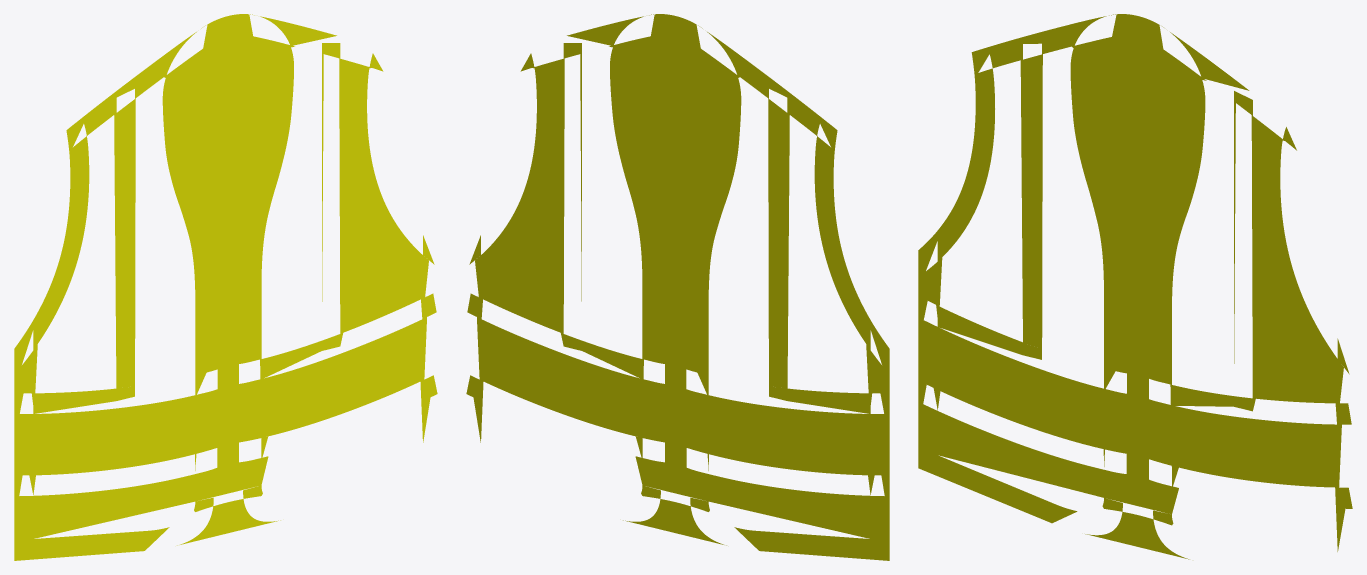
Rendered from vest.glb.
3 renders of one model, left to right at view 1: azimuth 30°, elevation 25°; view 2: azimuth 150°, elevation 25°; view 3: azimuth 330°, elevation 25°, orthographic. The views are drawn at different scales.
Visible parts, largest first — view 1: Text.930; view 2: Text.930; view 3: Text.930.
Part boxes in pixels (bbox=[...]): Text.930: bbox=[14, 14, 437, 560]; Text.930: bbox=[466, 14, 889, 560]; Text.930: bbox=[918, 14, 1352, 559].
Bounding box in the file's own units: 0.87 × 1.02 × 3.6e-06.
